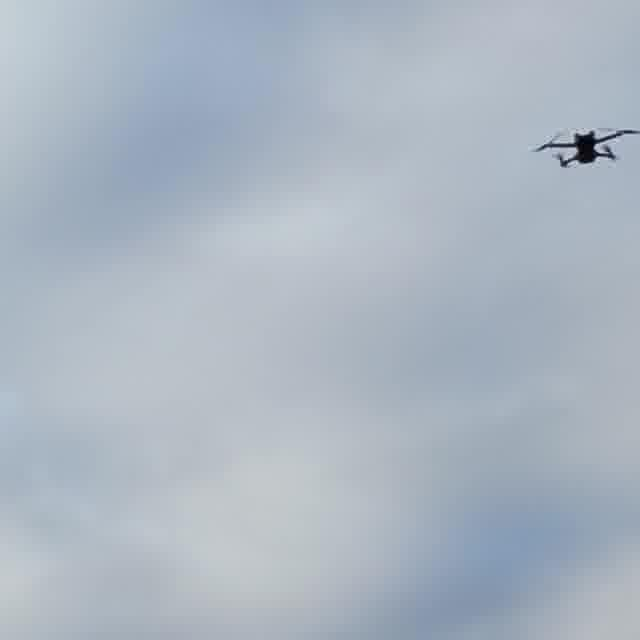Drohne: (535, 130, 639, 166)
